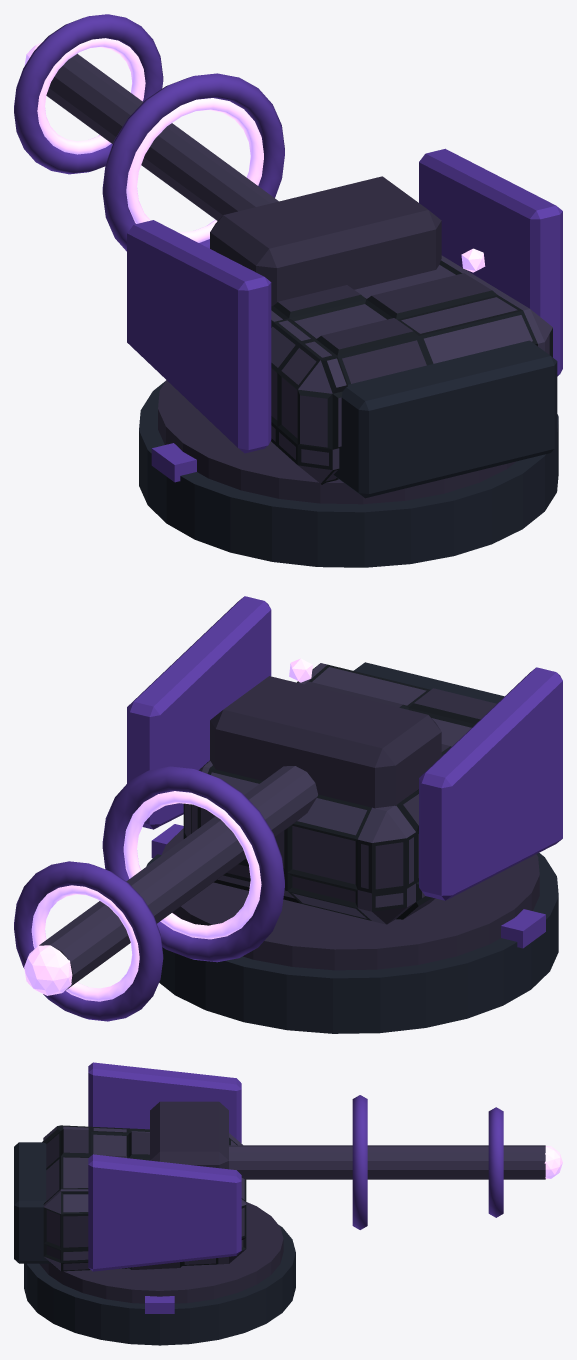
The model's file is turret_graviton_lances.glb.
The picture shows the model from 3 angles, top to bottom: view 1: azimuth 30°, elevation 25°; view 2: azimuth 150°, elevation 25°; view 3: azimuth 270°, elevation 25°; orthographic projection. The views are drawn at different scales.
Parts seen in each view (by area): view 1: Yaw_mesh, Pitch_mesh, Base_mesh; view 2: Yaw_mesh, Pitch_mesh, Base_mesh; view 3: Yaw_mesh, Base_mesh, Pitch_mesh.
Part boxes in pixels (bbox=[...]): Yaw_mesh: bbox=[127, 148, 562, 498]; Pitch_mesh: bbox=[14, 14, 441, 306]; Base_mesh: bbox=[139, 380, 558, 567]; Yaw_mesh: bbox=[127, 596, 562, 924]; Pitch_mesh: bbox=[14, 676, 441, 1021]; Base_mesh: bbox=[146, 824, 558, 1033]; Yaw_mesh: bbox=[14, 1062, 246, 1271]; Base_mesh: bbox=[24, 1202, 295, 1345]; Pitch_mesh: bbox=[150, 1095, 562, 1229].
Size of the model in its own units: 1.12 by 0.835 by 2.22.
